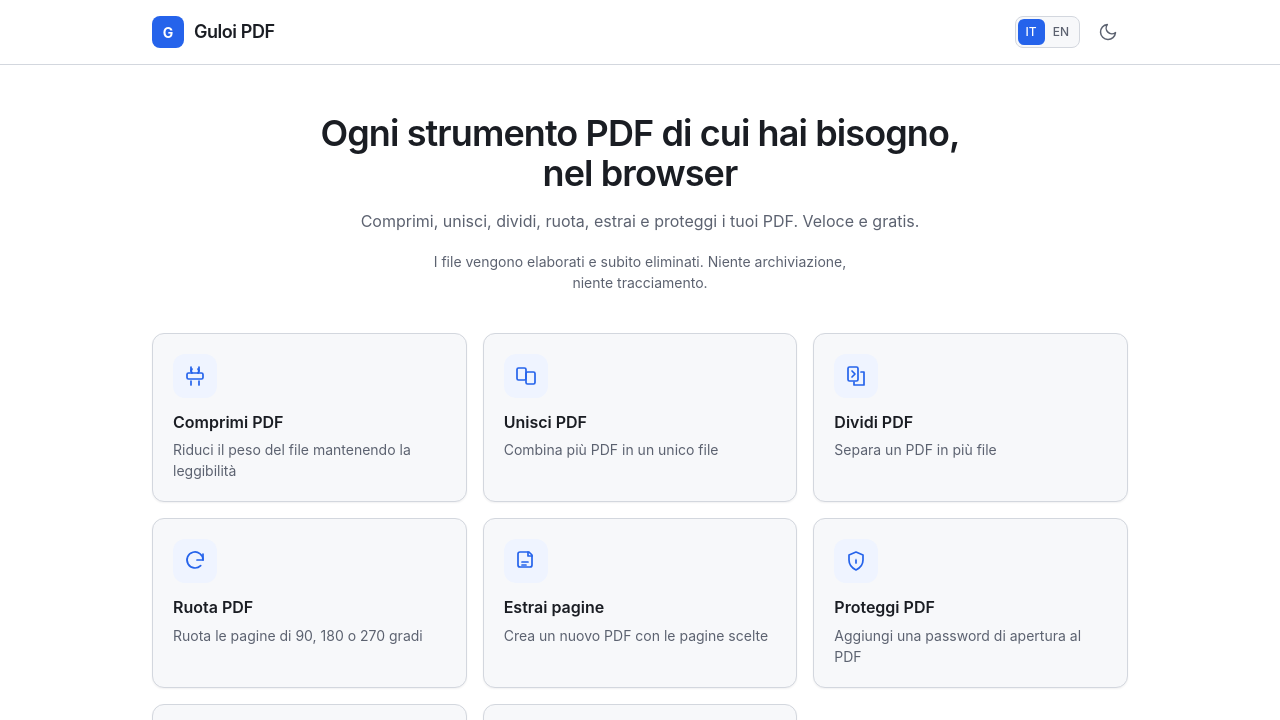
Test: home + router › navigates to /comprimi and renders the compress page
The width and height of the screenshot is (1280, 720).
Click the link that starts with "Comprimi PDF" at (309, 417), box [152,333,467,502]
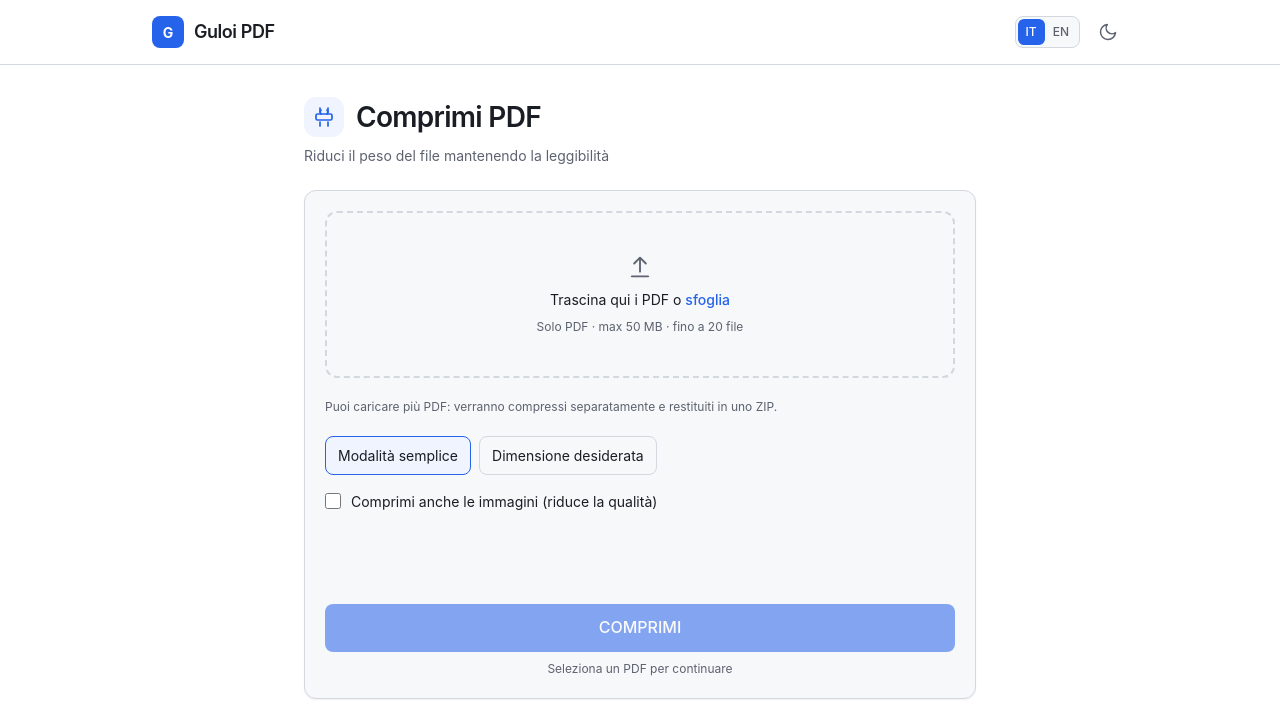
Expected: the button "COMPRIMI" is shown, [325,604,955,652]
